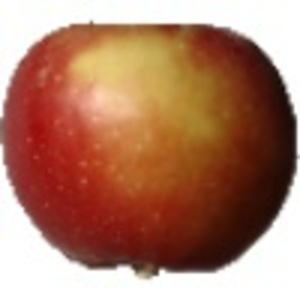maçã braeburn: (1, 19, 298, 270)
